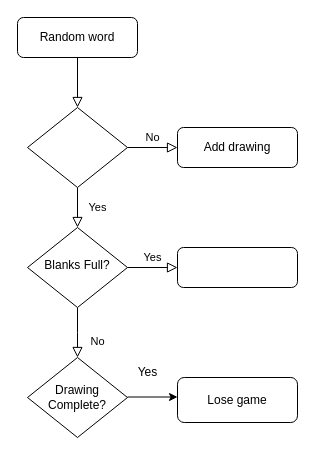
Some shapes in this 315 by 455 pixel diagram are drawn without their labels. The shapes that lost their labels are listed below. From the top down, each one's box as (x1, y1, x2, y2) in pixels, then its label:
(26, 106, 128, 188): Contains Letters?
(176, 246, 298, 288): Win game
